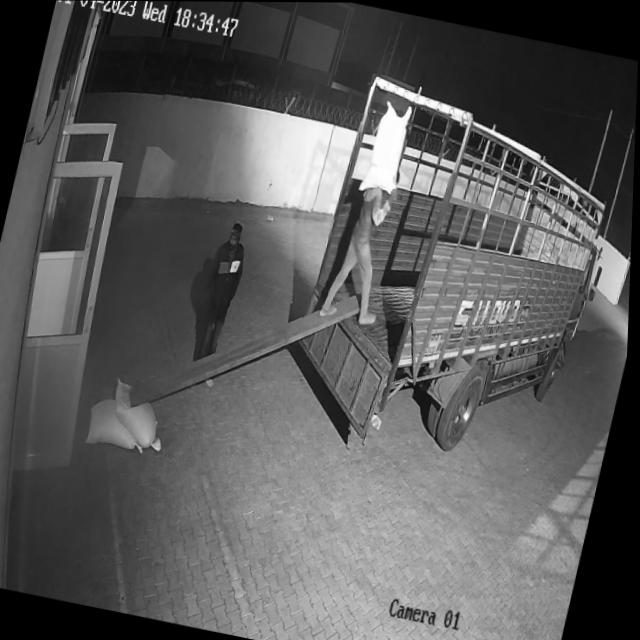sack: (358, 97, 417, 198), (105, 376, 179, 451), (86, 395, 157, 456)
